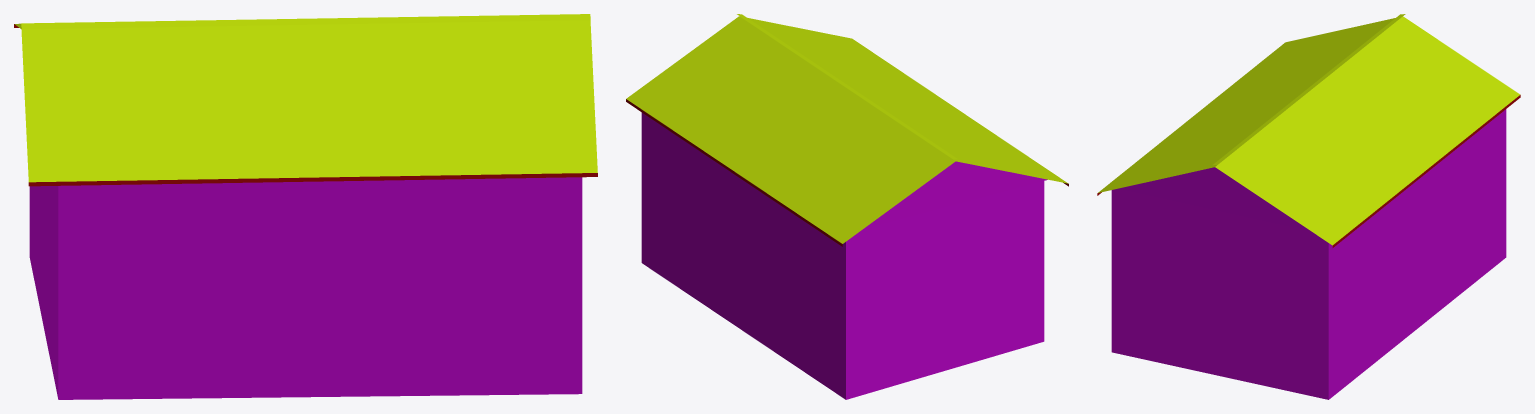
3 views of the same model, side by side, from view 1: azimuth 30°, elevation 25°; view 2: azimuth 150°, elevation 25°; view 3: azimuth 270°, elevation 25° (orthographic). The views are drawn at different scales.
Visible parts, largest first — view 1: sc_113; view 2: sc_113; view 3: sc_113.
Part boxes in pixels (x1,y1,x2,y2): sc_113: (14, 14, 597, 399); sc_113: (626, 14, 1068, 399); sc_113: (1097, 14, 1520, 399).
Bounding box in the file's own units: 18.13 × 8.99 × 15.95.
